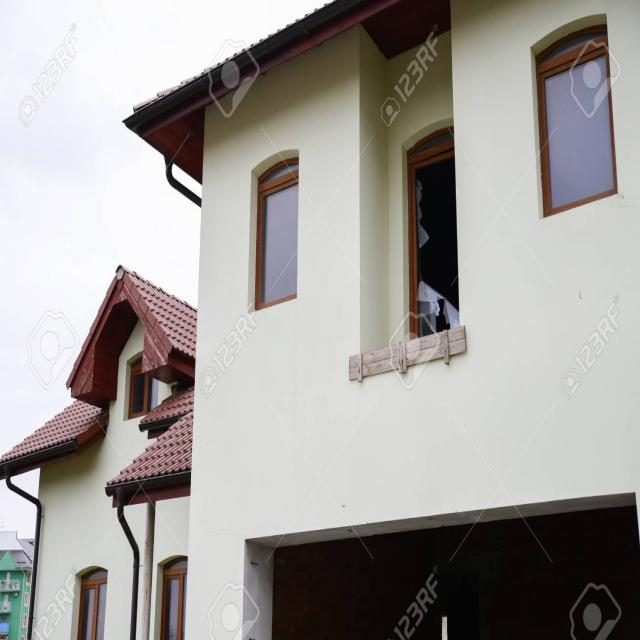House: (119, 0, 640, 640), (0, 264, 196, 639)
